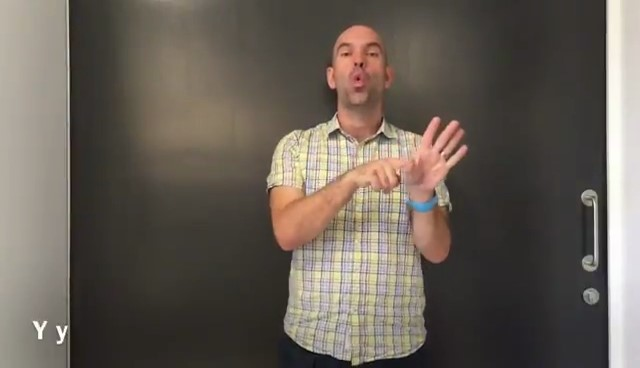Y: (353, 114, 473, 199)
